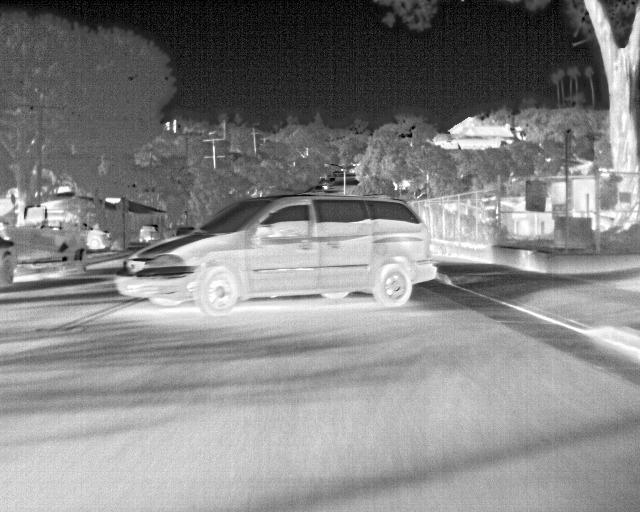car: (112, 191, 440, 314), (0, 206, 90, 286), (137, 224, 158, 246)
